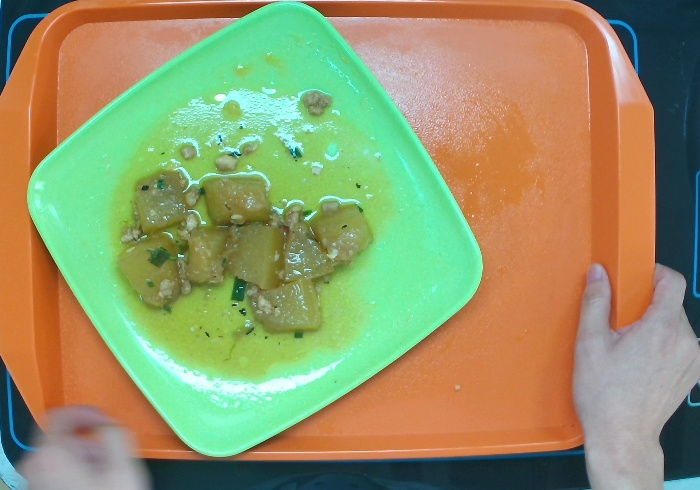ZNLD-Lv_Fang_Pan: (26, 3, 482, 459)
